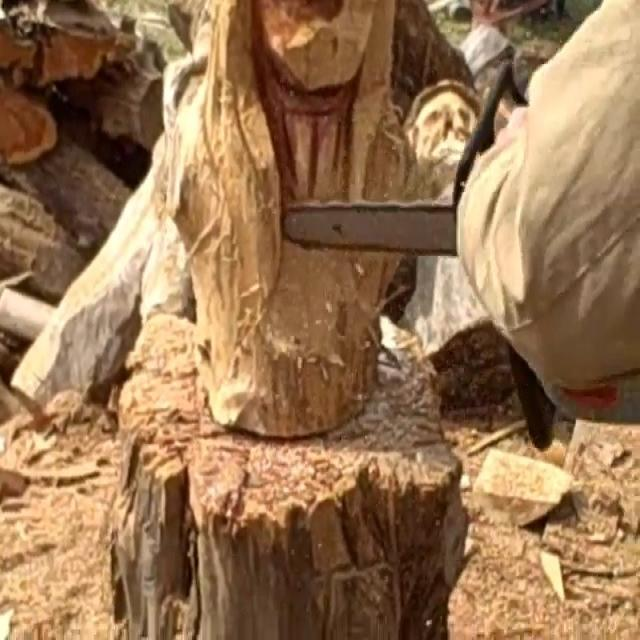Chainsaw: (263, 48, 640, 442)
